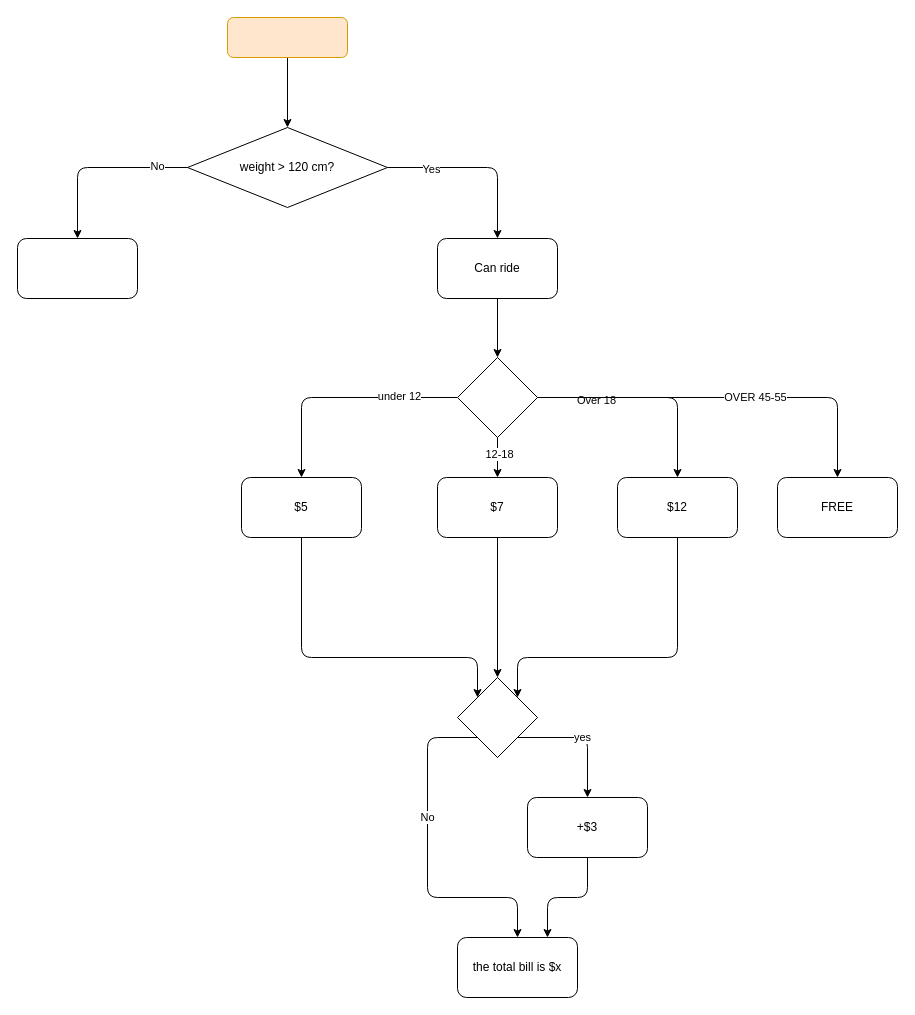
The diagram is 915 pixels wide and 1015 high, and some of its shapes have lost their labels. Here are the shapes that lost their labels. From the top down, the box of each, then its label:
(226, 16, 348, 58): Start
(16, 238, 138, 298): Can't ride
(456, 356, 538, 438): age
(456, 676, 538, 758): want photos ?
